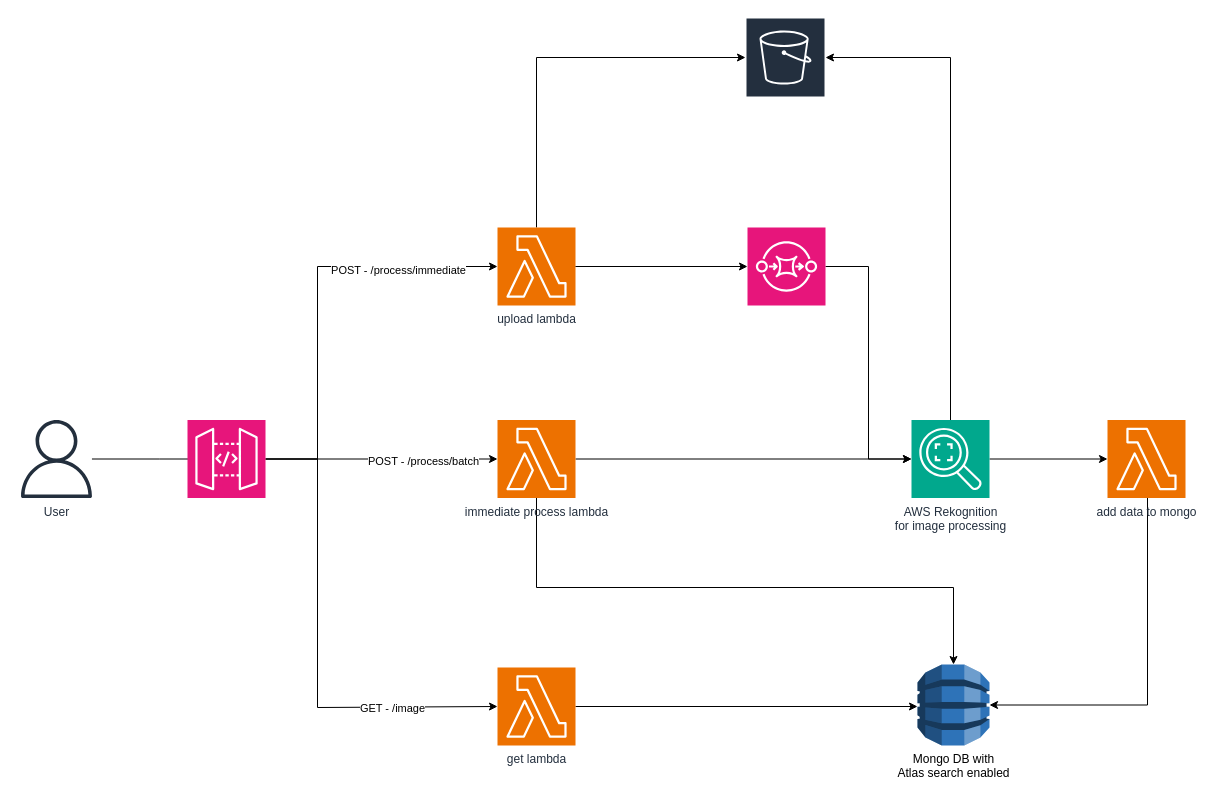
Some shapes in this 1213 by 799 pixel diagram are drawn without their labels. The centre of each missing label's shape, as x and y in pixels:
"Api Gateway" goes at (226,458).
"Queue" goes at (786,266).
"S3" goes at (785,67).
